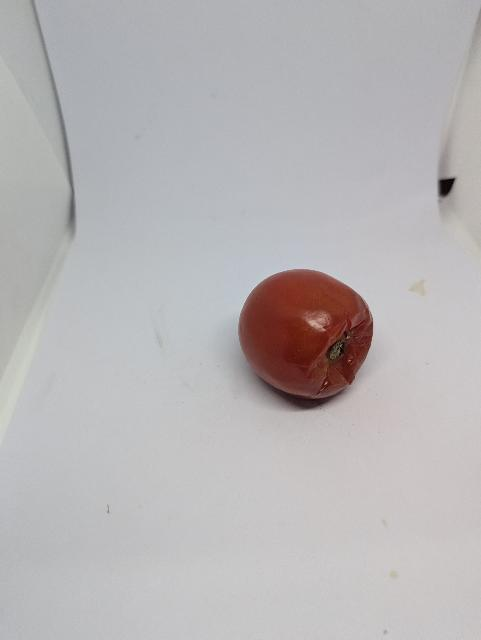defect: (236, 264, 376, 402)
